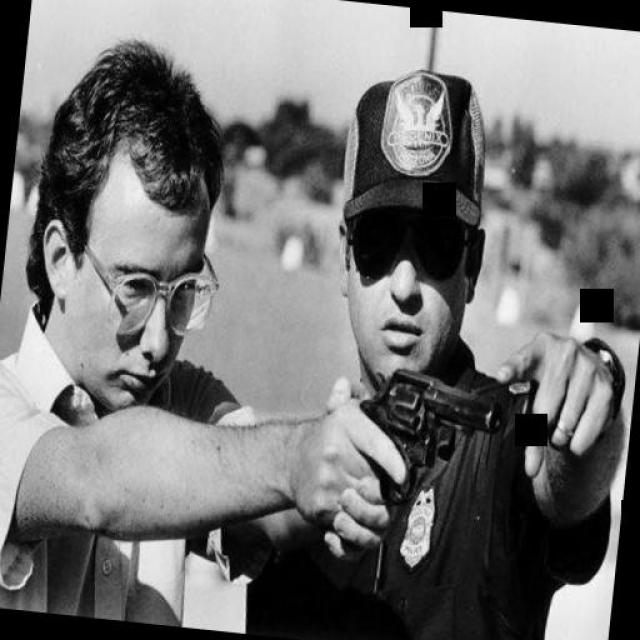gun: (340, 355, 506, 521)
